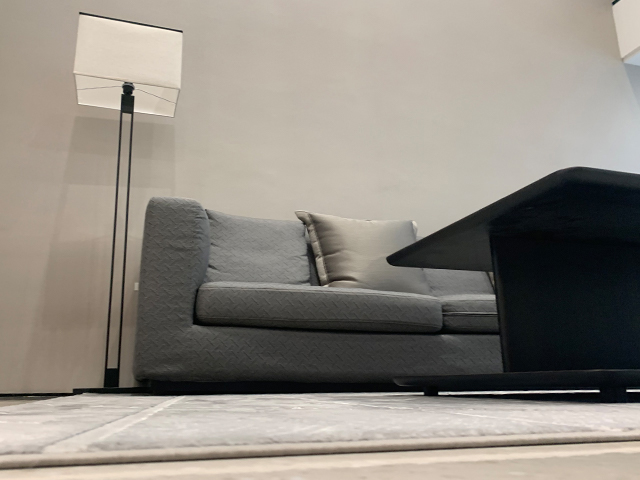carpet: (1, 390, 640, 471)
sofa: (131, 198, 503, 390)
table: (384, 166, 640, 396)
